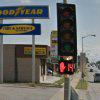Traffic light: (50, 0, 82, 66)
